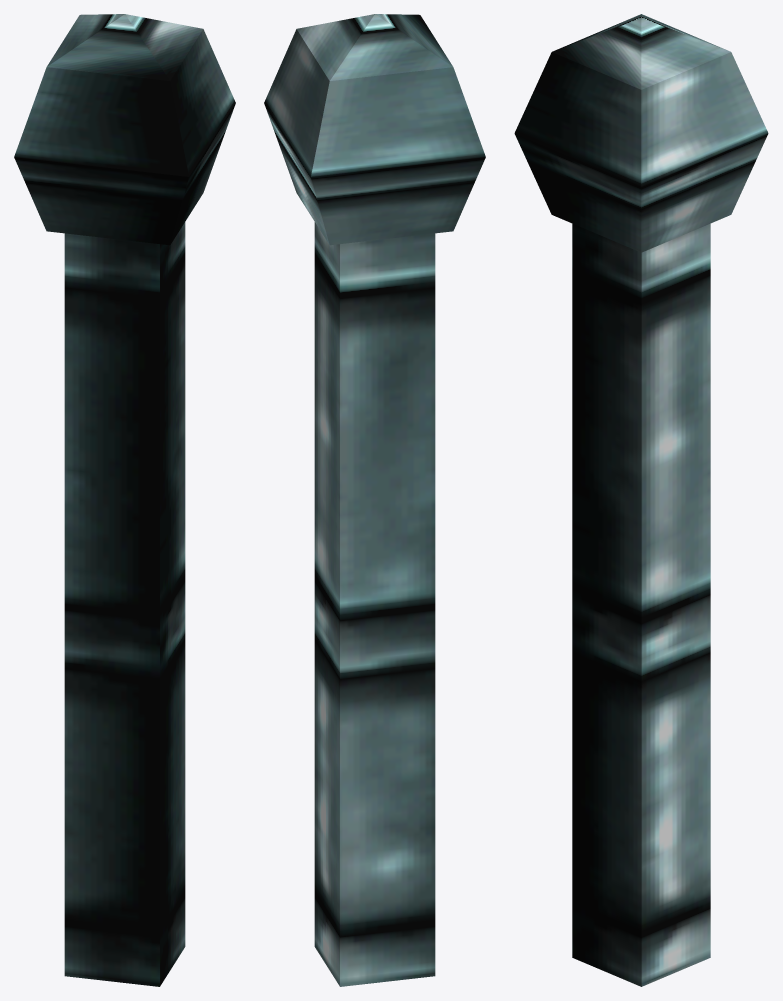
Rendered from GeländerSteher [MetallRöhre]_820.glb.
3 renders of one model, left to right at view 1: azimuth 30°, elevation 25°; view 2: azimuth 150°, elevation 25°; view 3: azimuth 270°, elevation 25°, orthographic.
Visible parts, largest first — view 1: pCylinderShape1, pSphereShape1; view 2: pCylinderShape1, pSphereShape1; view 3: pCylinderShape1, pSphereShape1.
Boxes of the visible parts, <box> form: pCylinderShape1: <box>64,222,185,986</box>; pSphereShape1: <box>14,14,235,245</box>; pCylinderShape1: <box>314,222,435,986</box>; pSphereShape1: <box>264,14,485,245</box>; pCylinderShape1: <box>572,223,710,986</box>; pSphereShape1: <box>514,14,768,252</box>.
Bounding box in the file's own units: 0.0446 × 0.1821 × 0.0446.
2 materials, 2 textured.
